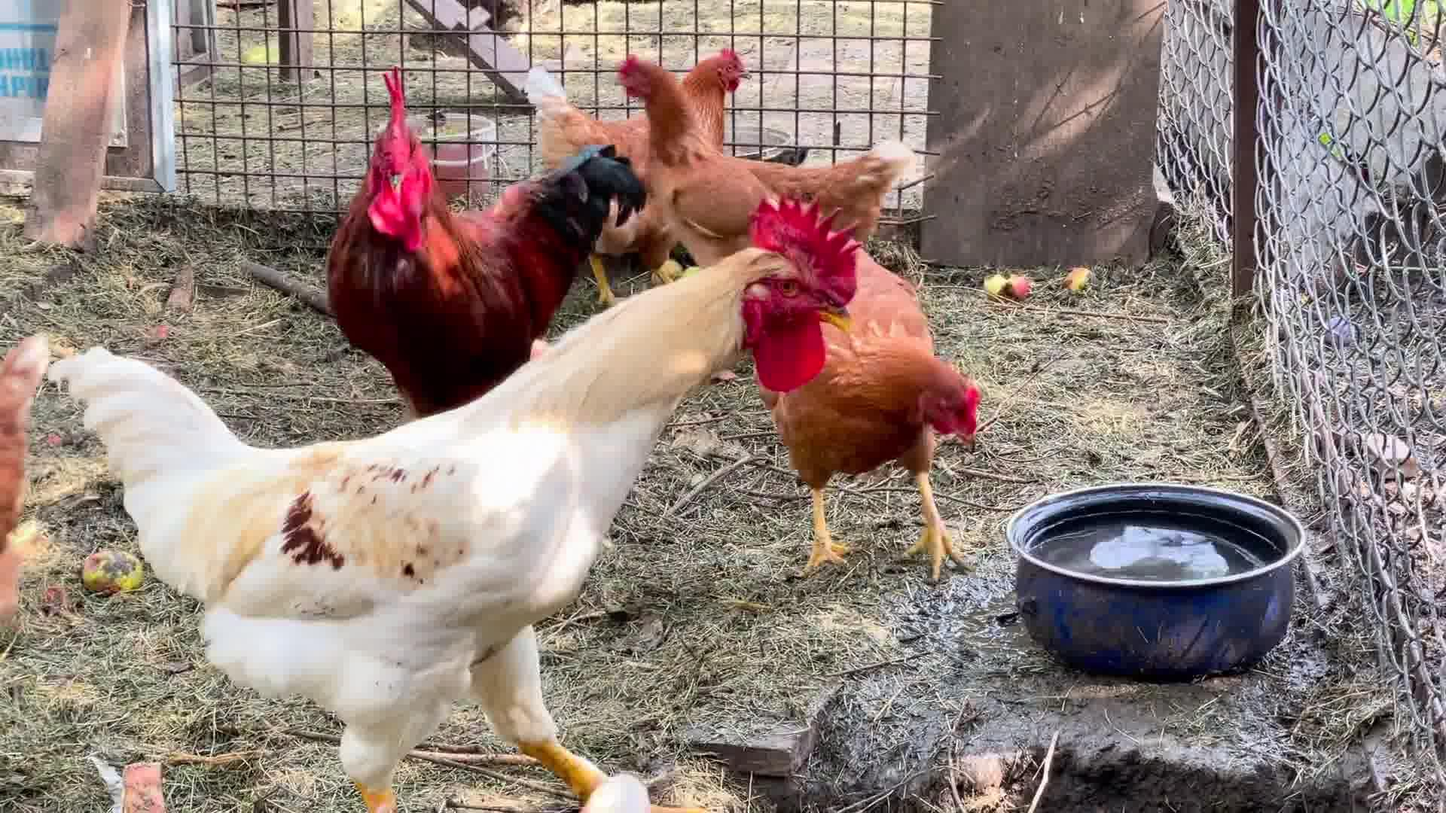Normal: (44, 209, 858, 812), (294, 72, 628, 401), (787, 296, 981, 590), (624, 62, 899, 261), (533, 47, 777, 163)
